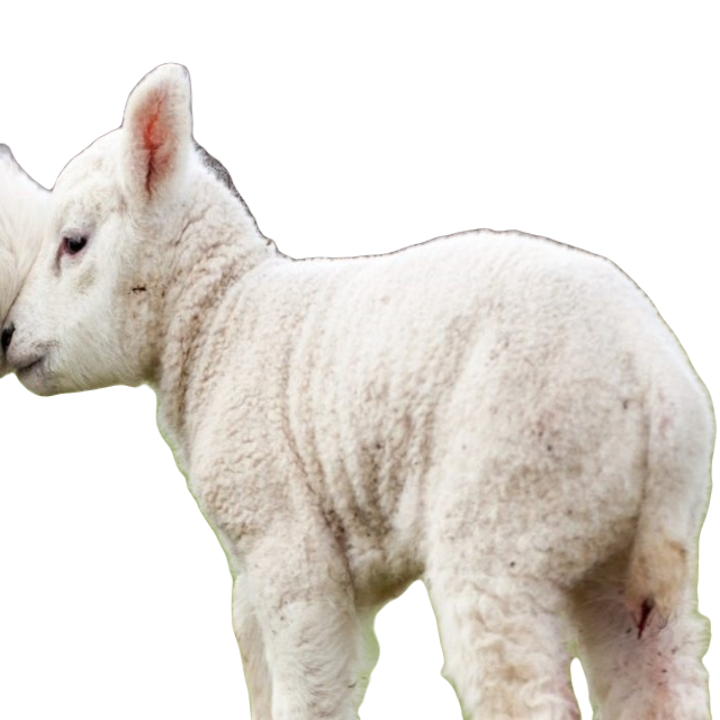Sheep: (0, 58, 720, 719)
